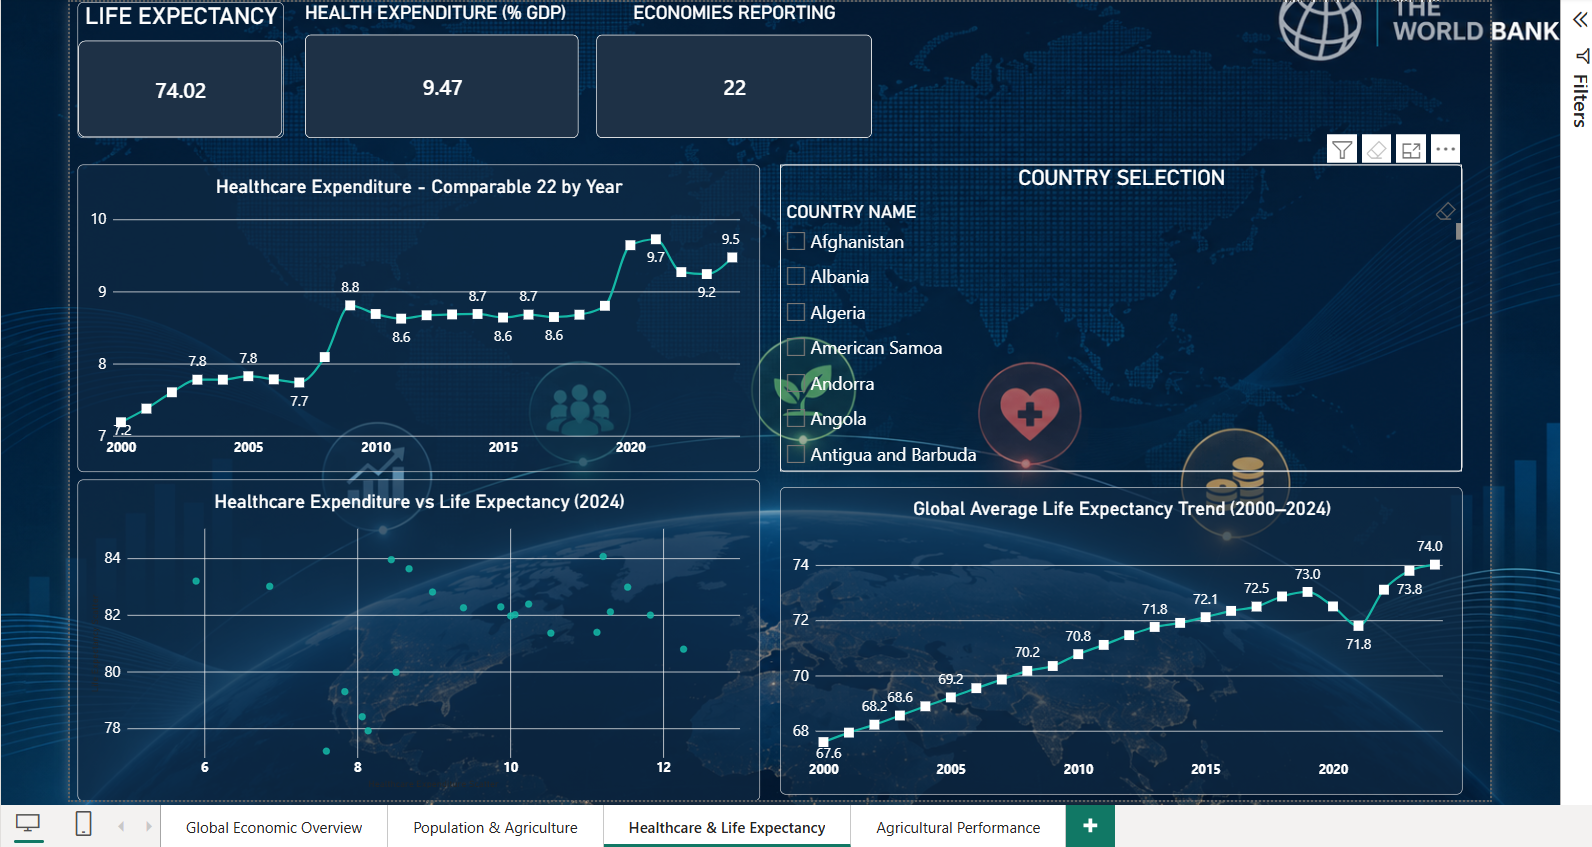

The page's visual inventory and layout, read from the dashboard file:
{"tool":"powerbi","page":{"name":"\tHealthcare & Life Expectancy","canvas":[1920,1080],"ordinal":2},"visuals":[{"type":"cardVisual","title":"\tLIFE EXPECTANCY","fields":{"Data":["worldbank_global_cleaned.Average Life Expectancy"]},"box":[10.5,0,278.9,184.2],"z":0},{"type":"cardVisual","title":"\tHEALTH EXPENDITURE (% GDP)","fields":{"Data":["worldbank_global_cleaned.Average Healthcare Expenditure %"]},"box":[317.5,0,370.2,184.2],"z":1000},{"type":"cardVisual","title":"\tECONOMIES REPORTING","fields":{"Data":["worldbank_global_cleaned.Healthcare Economies"]},"box":[712.3,0,373.7,184.2],"z":2000},{"type":"lineChart","fields":{"Category":["worldbank_global_cleaned.Year"],"Y":["worldbank_global_cleaned.Healthcare Expenditure - Comparable 22"]},"box":[10.5,219.3,922.8,415.8],"z":3000},{"type":"lineChart","title":"\tGlobal Average Life Expectancy Trend (2000–2024)","fields":{"Category":["worldbank_global_cleaned.Year"],"Y":["Avg(worldbank_global_cleaned.Value)"]},"box":[959.6,656.1,923,416],"z":4000},{"type":"scatterChart","title":"Healthcare Expenditure vs Life Expectancy (2024)","fields":{"Category":["worldbank_global_cleaned.Country_Name"],"X":["worldbank_global_cleaned.Healthcare Expenditure Scatter"],"Y":["worldbank_global_cleaned.Life Expectancy Scatter"]},"box":[10.5,645.6,922.8,435.1],"z":5000},{"type":"slicer","title":"COUNTRY SELECTION","fields":{"Values":["worldbank_global_cleaned.Country_Name"]},"box":[959.6,219.3,922.8,415.8],"z":5001}]}

Visuals, with their boxes on the page's 1920x1080 design canvas (x1, y1, x2, y2). These are canvas units, not pixel positions in the 1592x847 screenshot, which may show the page scaled, cropped or inside an application window:
"	LIFE EXPECTANCY" cardVisual: 10 0 289 184
"	HEALTH EXPENDITURE (% GDP)" cardVisual: 318 0 688 184
"	ECONOMIES REPORTING" cardVisual: 712 0 1086 184
lineChart - worldbank_global_cleaned.Year x worldbank_global_cleaned.Healthcare Expenditure - Comparable 22: 10 219 933 635
"	Global Average Life Expectancy Trend (2000–2024)" lineChart: 960 656 1883 1072
"Healthcare Expenditure vs Life Expectancy (2024)" scatterChart: 10 646 933 1081
"COUNTRY SELECTION" slicer: 960 219 1882 635
